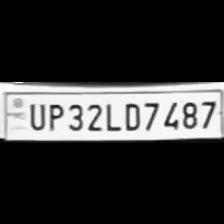2: (83, 98, 103, 130)
3: (65, 98, 83, 130)
4: (159, 97, 179, 129)
7: (198, 96, 218, 128), (140, 98, 158, 130)
8: (178, 96, 198, 128)
D: (120, 97, 140, 128)
L: (102, 98, 120, 130)
P: (44, 98, 64, 130)
U: (24, 99, 44, 129)
